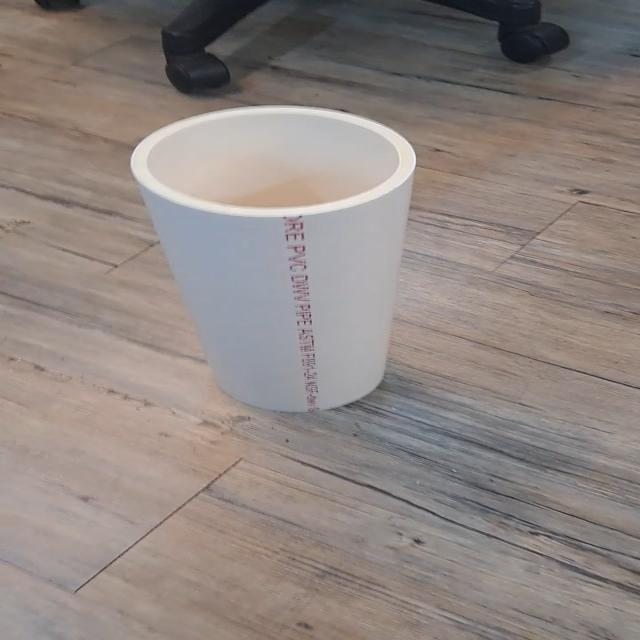CORAL: (110, 97, 488, 426)
